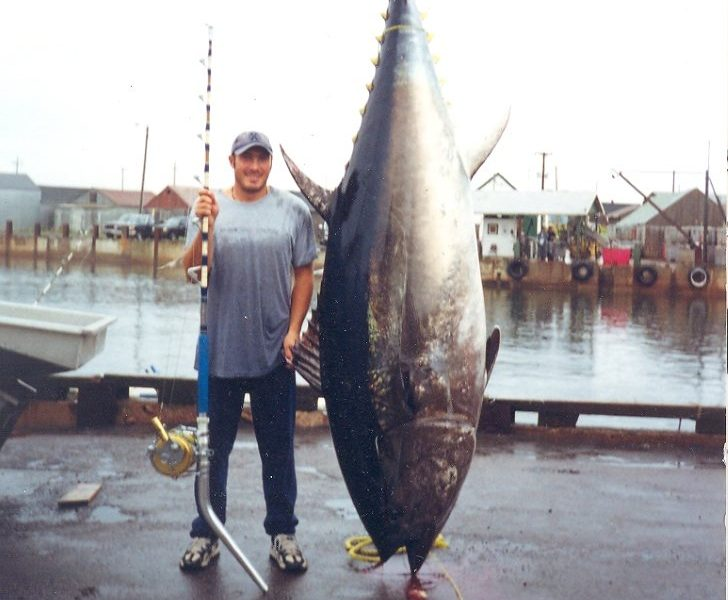Bluefina Tuna: (300, 10, 508, 599)
